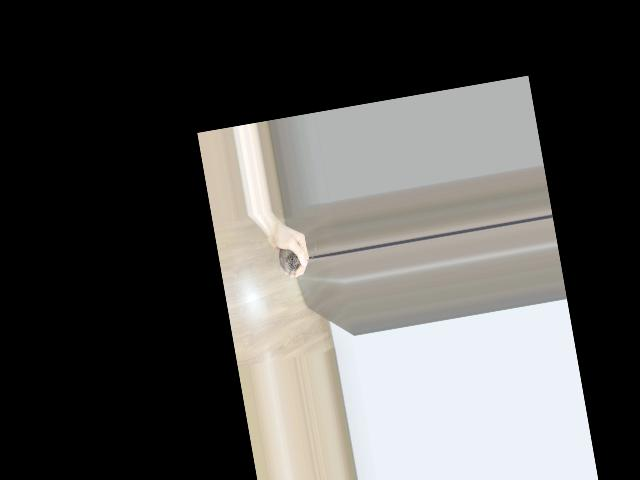beet: (277, 242, 320, 276)
